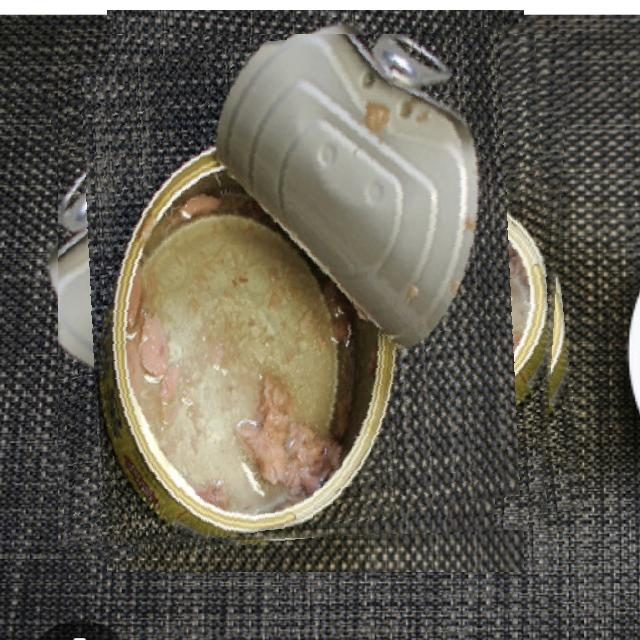recyclable: (58, 34, 572, 548)
